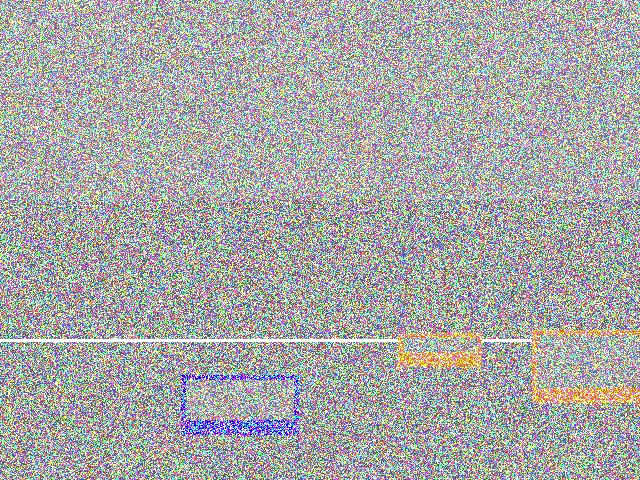motorcycle: (86, 161, 185, 286), (272, 174, 408, 244)
